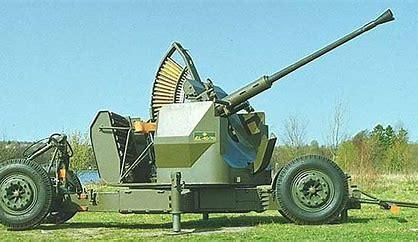MIL_SPG: (0, 10, 393, 231)
